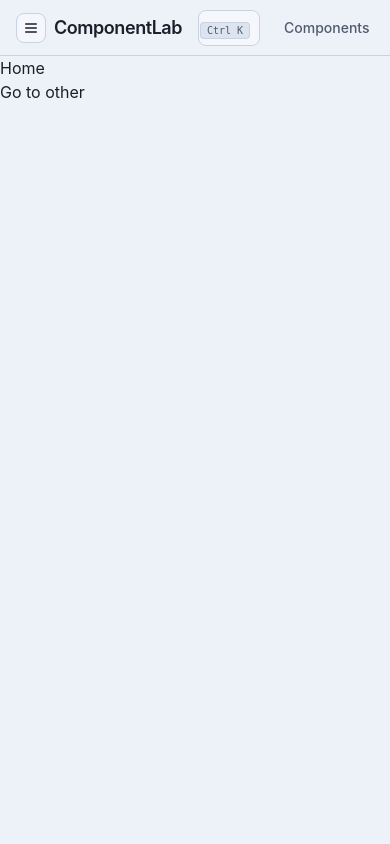
Scenario: Responsive Layout and Mobile Drawer › opens mobile drawer when clicking the menu button
The width and height of the screenshot is (390, 844).
Click the button named "Open navigation menu": (31, 28) [16,12,46,42]
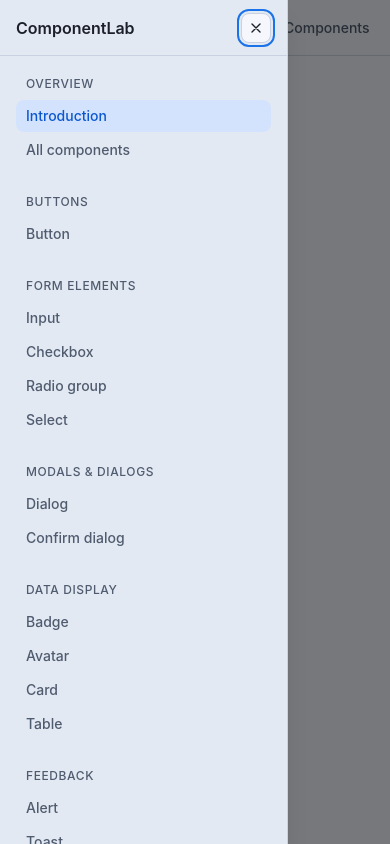
Check: the dialog is shown
Check: the button named "Close navigation menu" is shown, box [241,12,271,42]
